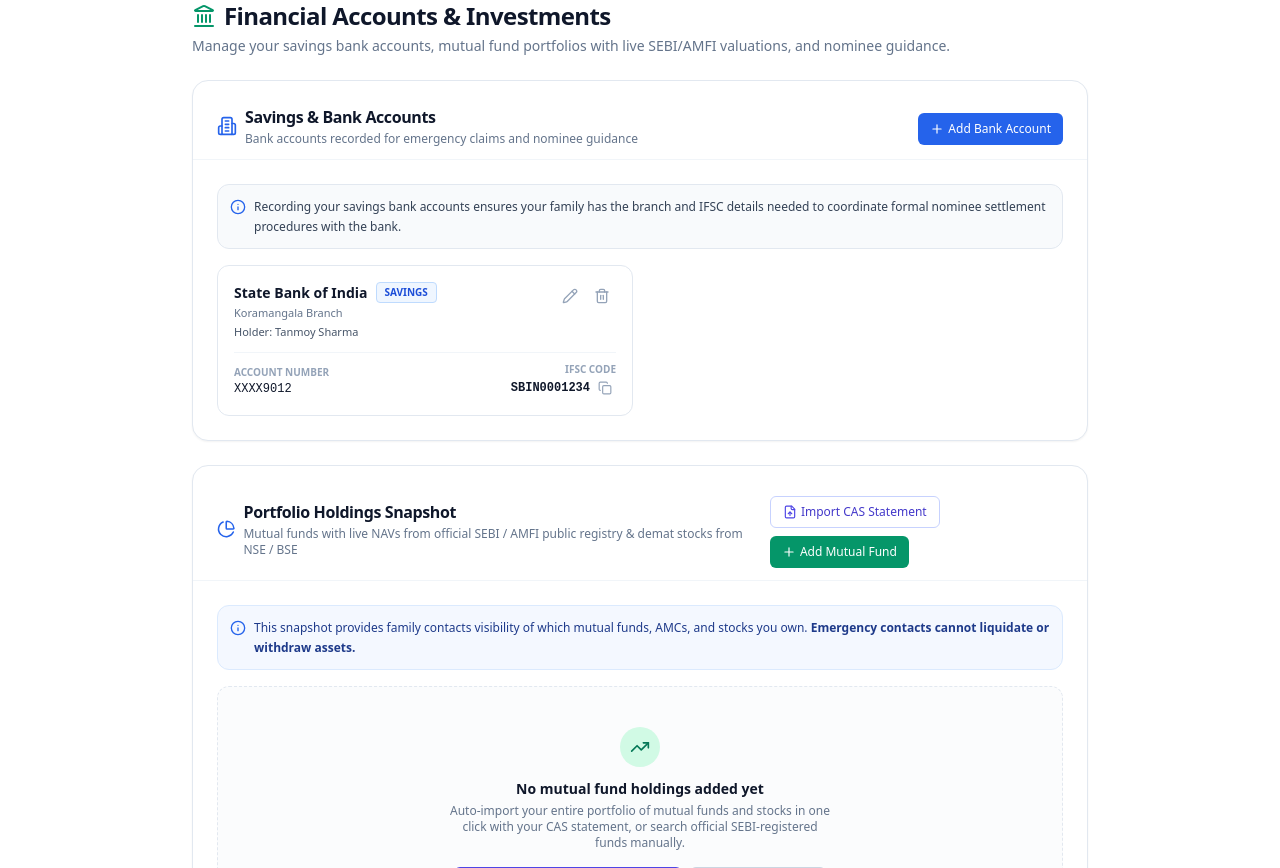
it: Accounts Feature - Bank Accounts & Mutual Funds › opens Add Bank Account dialog when Add Bank Account is clicked, passing axe
Click the button "Add Bank Account" at (991, 129), box 918,113 -> 1063,145
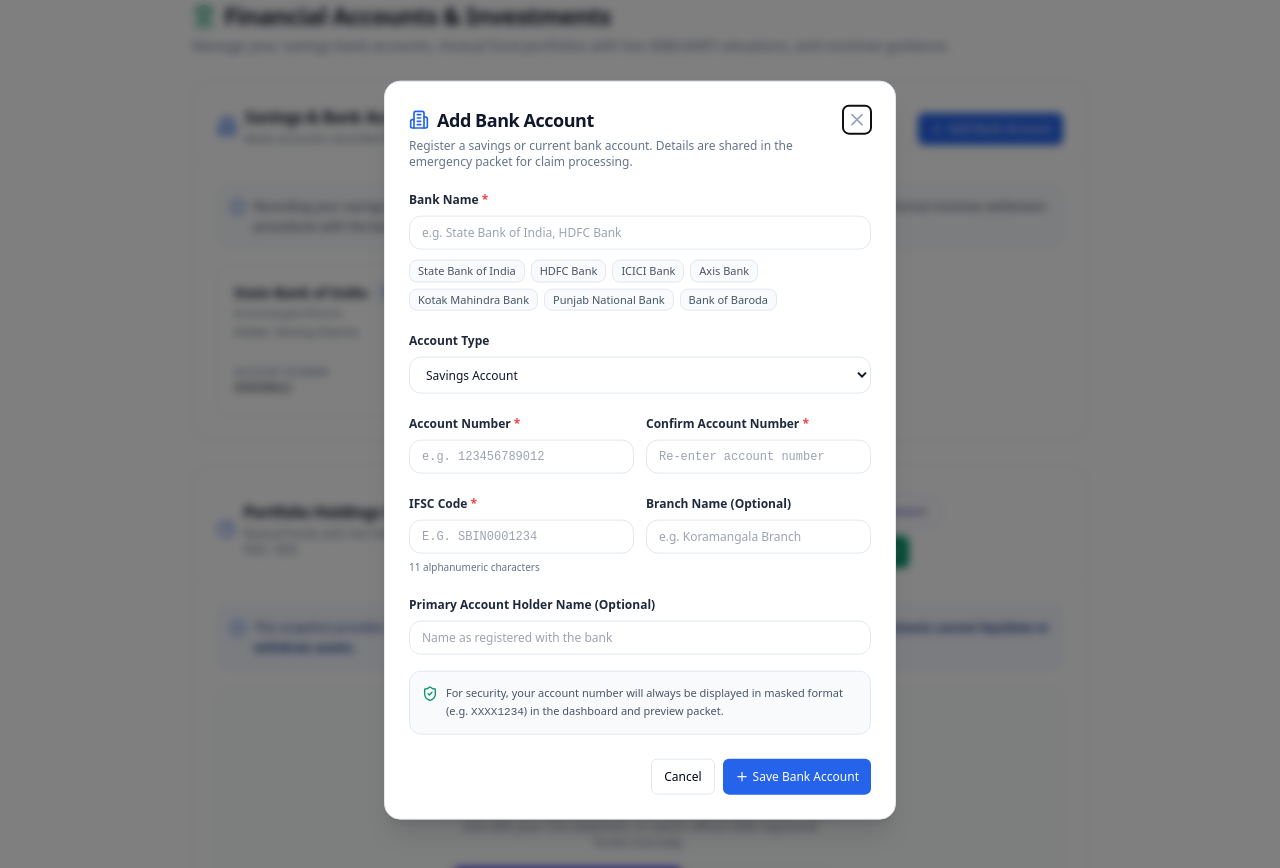
Expected: the heading "Add Bank Account" is shown, 409,108 -> 594,132
Expected: the field labelled "Bank Name *" is shown, 409,216 -> 871,250
Expected: the field labelled "Account Number *" is shown, 409,440 -> 634,474
